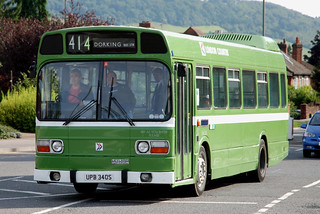bus: (33, 25, 289, 197)
car: (301, 111, 320, 158)
